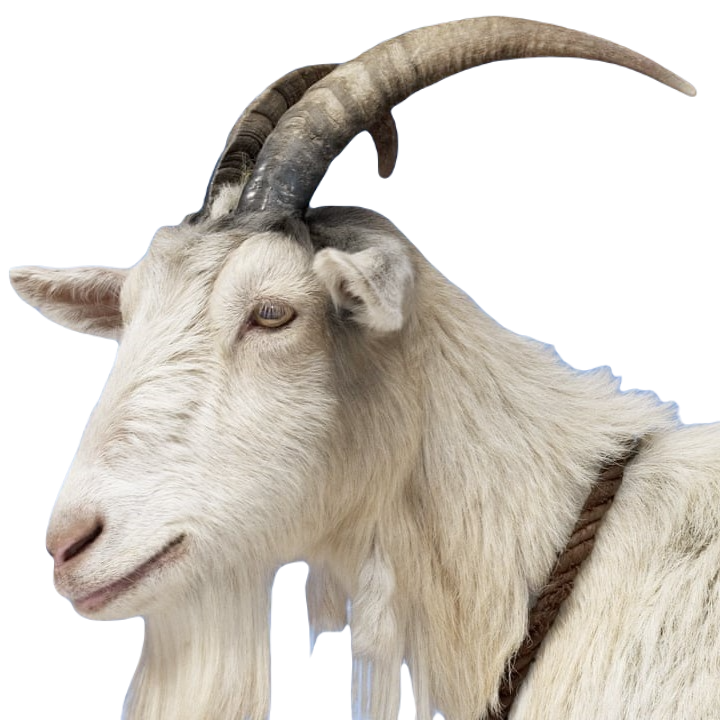Goat: (7, 11, 719, 719)
